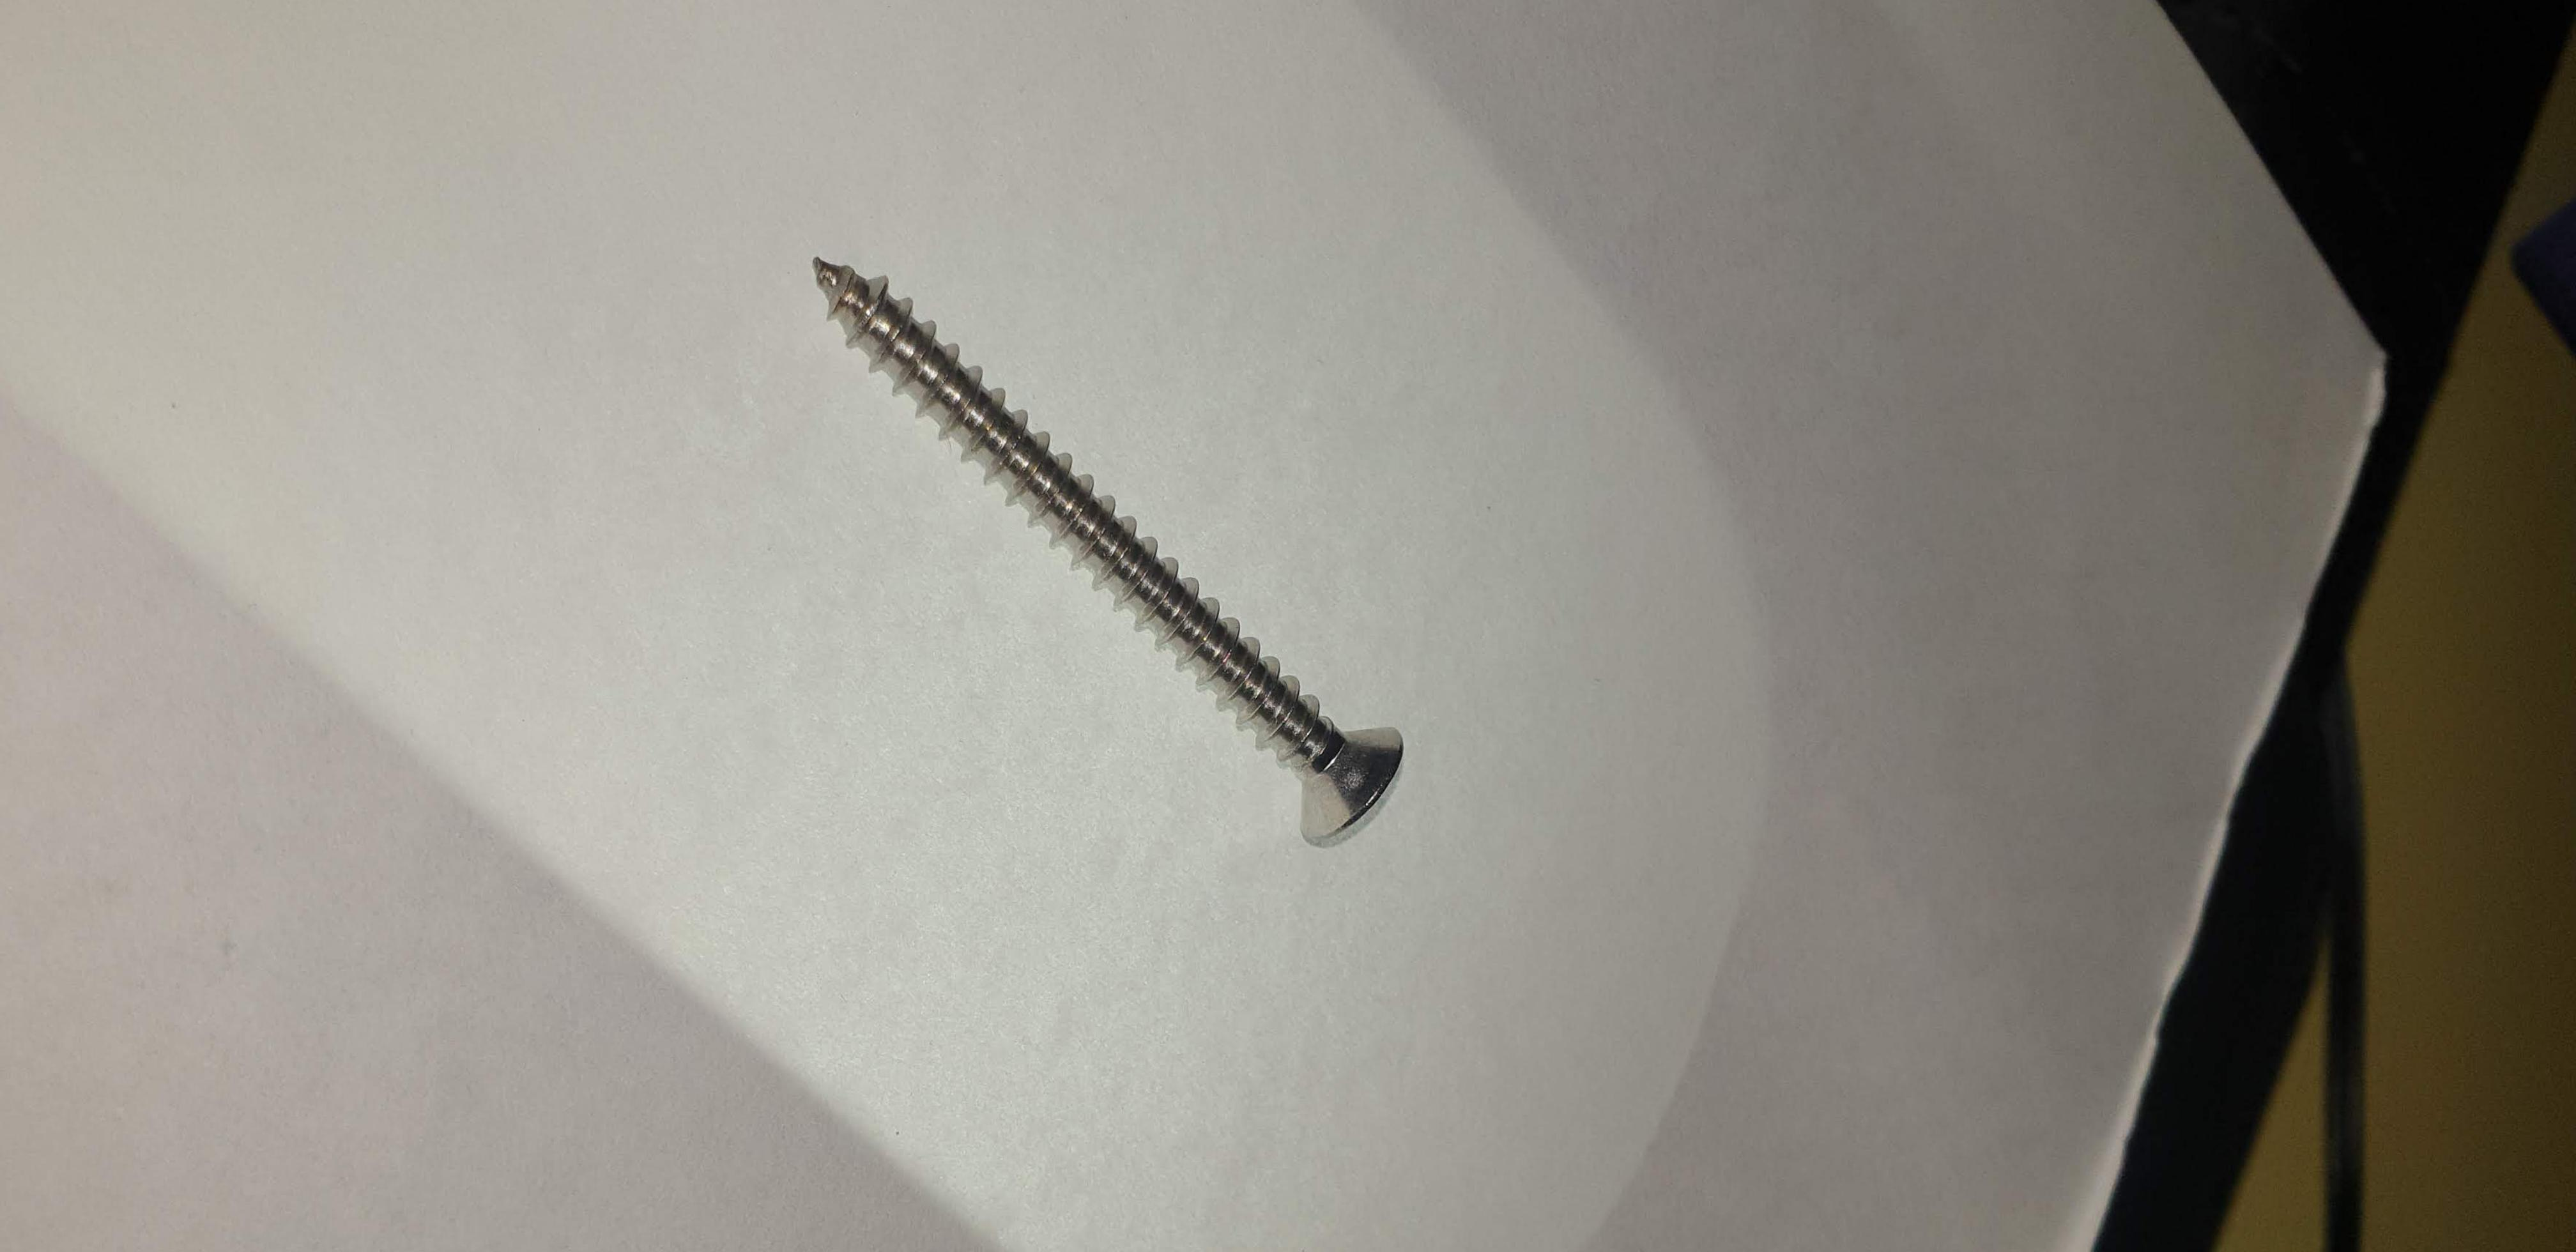fastener: (677, 191, 1502, 918)
